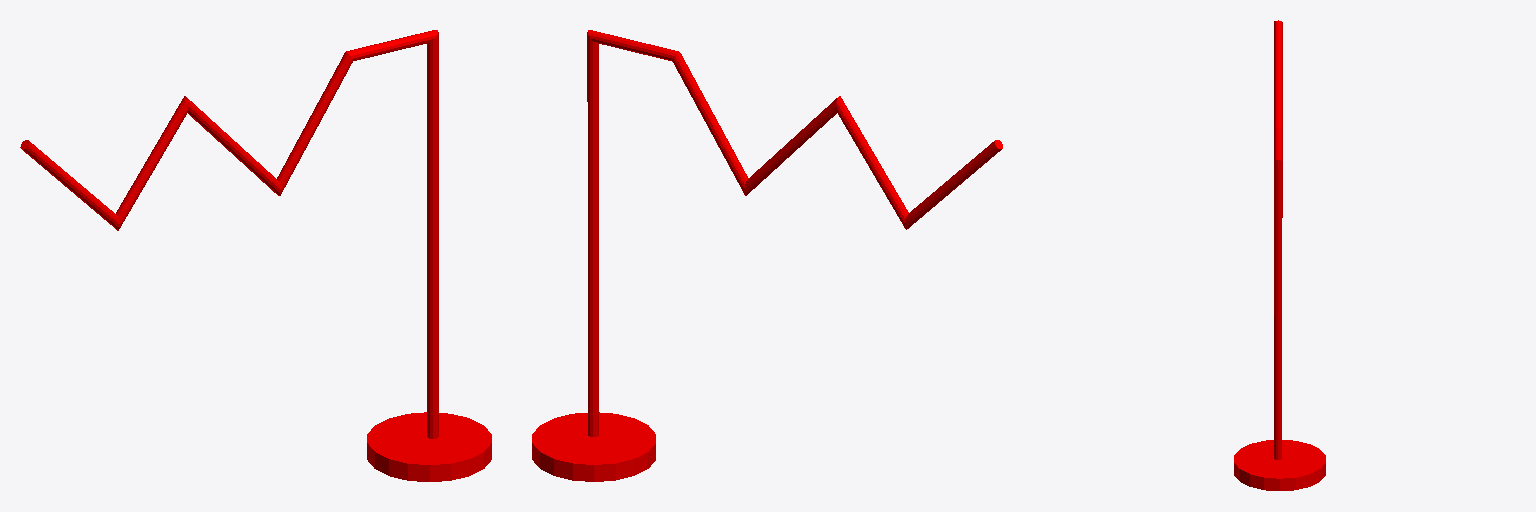
The robot description file, URDF, robot "ring":
<?xml version="0.0" ?>
<robot name="ring">
    <material name="white">
        <color rgba="1 0 0 1"/>
    </material>

    <link name="baseLink">
        <!-- from lego/lego.urdf -->
        <contact>
            <lateral_friction value="1.0"/>
            <rolling_friction value="0.0"/>
            <contact_cfm value="0.0"/>
            <contact_erp value="1.0"/>
        </contact>
        <inertial>
            <origin rpy="0 0 0" xyz="0 0 0"/>
            <mass value="0.01"/>
            <inertia ixx="1" ixy="0" ixz="0" iyy="1" iyz="0" izz="1"/>
        </inertial>
        <visual>
            <origin rpy="1.57 0 0" xyz="0 0 0"/>
            <geometry>
                <!--        radius: 10mm, depth: 14.5mm-->
                <mesh filename="meshes/w.obj" scale="1 1 1"/>
                <!--        <box size="0.002 0.002 0.002"/>-->
            </geometry>
            <material name="white"/>
        </visual>
        <collision>
            <origin rpy="1.57 0 0" xyz="0 0 0"/>
            <geometry>
                <mesh filename="meshes/w_vhacd.obj" scale="1 1 1"/>
                       <!-- <box size="2 2 2"/> -->
            </geometry>
        </collision>
    </link>
</robot>

--- What the picture shows (computed from the rendered views, not written in the file) ---
The picture shows the robot from 3 angles, left to right: view 1: azimuth 30°, elevation 25°; view 2: azimuth 150°, elevation 25°; view 3: azimuth 270°, elevation 25°; orthographic projection.
Model ring with 1 links and 0 joints (none), rooted at baseLink, posed all joints at 0.
Links seen in each view (by area): view 1: baseLink; view 2: baseLink; view 3: baseLink.
Link boxes in pixels (x1,y1,x2,y2): baseLink: (20, 30, 491, 481); baseLink: (532, 30, 1002, 481); baseLink: (1234, 20, 1325, 490).
Bounding box of the posed robot: 0.1337 × 0.031 × 0.1172 m (x, y, z).
1 mesh visuals loaded from 1 distinct referenced files (1 OBJ).